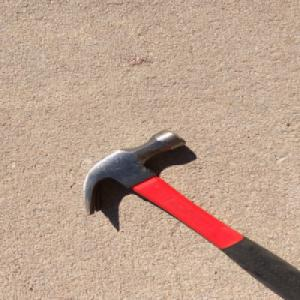Hammer: (79, 127, 299, 300)
